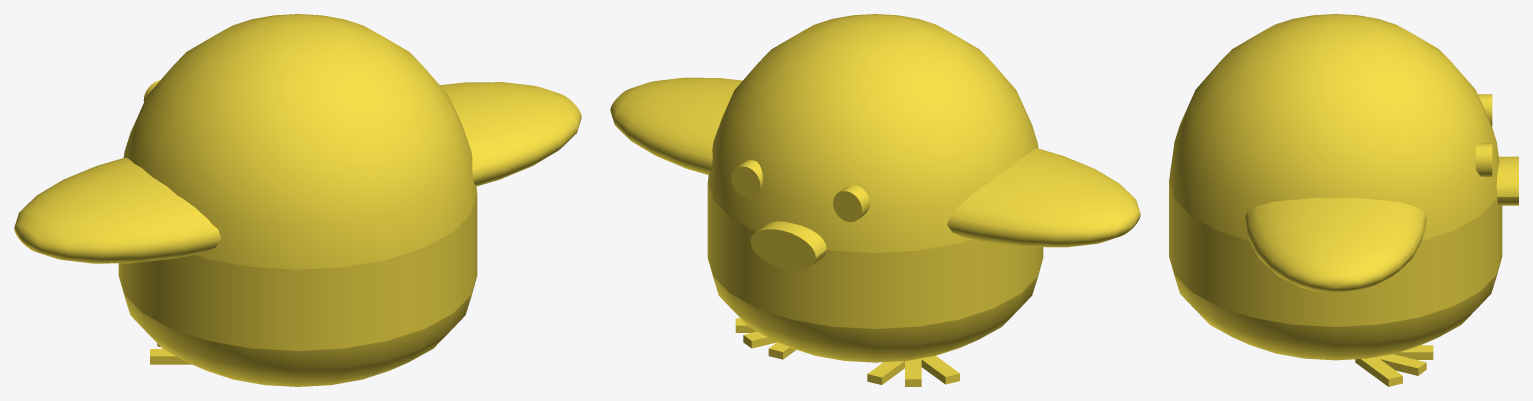
File: spaniard.glb
The picture shows the model from 3 angles, left to right: view 1: azimuth 30°, elevation 25°; view 2: azimuth 150°, elevation 25°; view 3: azimuth 270°, elevation 25°; orthographic projection. The views are drawn at different scales.
Visible parts, largest first — view 1: mergedBlocks(Clone); view 2: mergedBlocks(Clone); view 3: mergedBlocks(Clone).
Boxes of the visible parts, x1,y1,x2,y2 form: mergedBlocks(Clone): [14, 14, 581, 386]; mergedBlocks(Clone): [610, 14, 1140, 386]; mergedBlocks(Clone): [1169, 14, 1518, 386].
Size of the model in its own units: 1.77 by 1 by 1.05.
